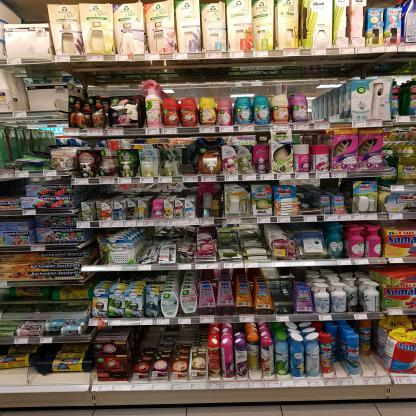Void: (8, 292, 84, 311), (358, 325, 385, 374), (305, 92, 334, 121), (29, 373, 86, 385), (5, 180, 22, 197)
